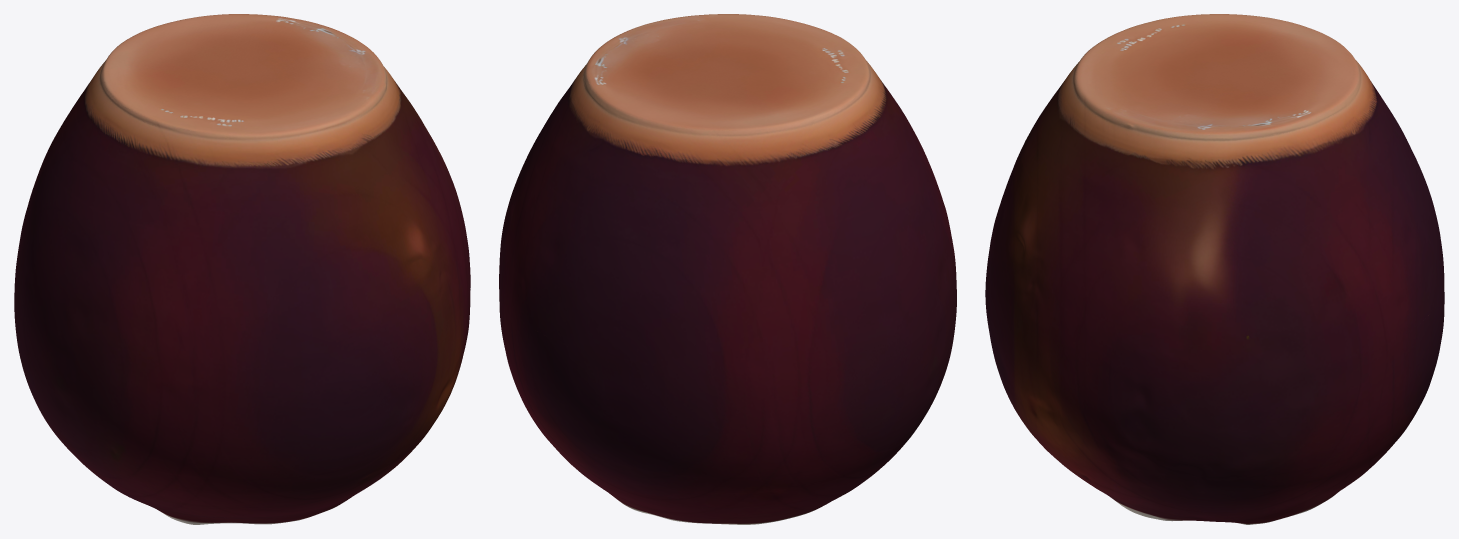
File: Cacao Stout.glb
3 views of the same model, side by side, from view 1: azimuth 30°, elevation 25°; view 2: azimuth 150°, elevation 25°; view 3: azimuth 270°, elevation 25° (orthographic).
Parts seen in each view (by area): view 1: tripo_node_35cf1b9d-f214-426f-a848-ef31f9ebeb0b; view 2: tripo_node_35cf1b9d-f214-426f-a848-ef31f9ebeb0b; view 3: tripo_node_35cf1b9d-f214-426f-a848-ef31f9ebeb0b.
Part boxes in pixels (x1,y1,x2,y2): tripo_node_35cf1b9d-f214-426f-a848-ef31f9ebeb0b: (14, 14, 470, 524); tripo_node_35cf1b9d-f214-426f-a848-ef31f9ebeb0b: (499, 14, 956, 524); tripo_node_35cf1b9d-f214-426f-a848-ef31f9ebeb0b: (985, 14, 1444, 524).
Size of the model in its own units: 1 by 0.9754 by 0.9988.
Materials: 1 (1 with a texture image).
